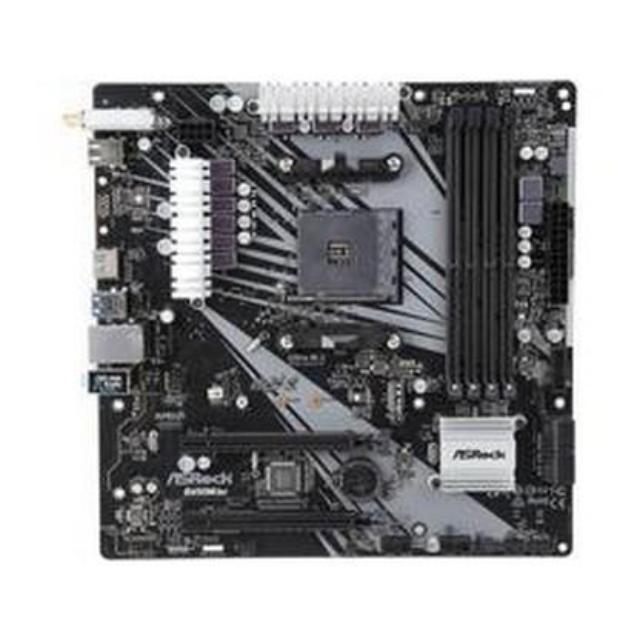Mainboard: (87, 77, 575, 565)
